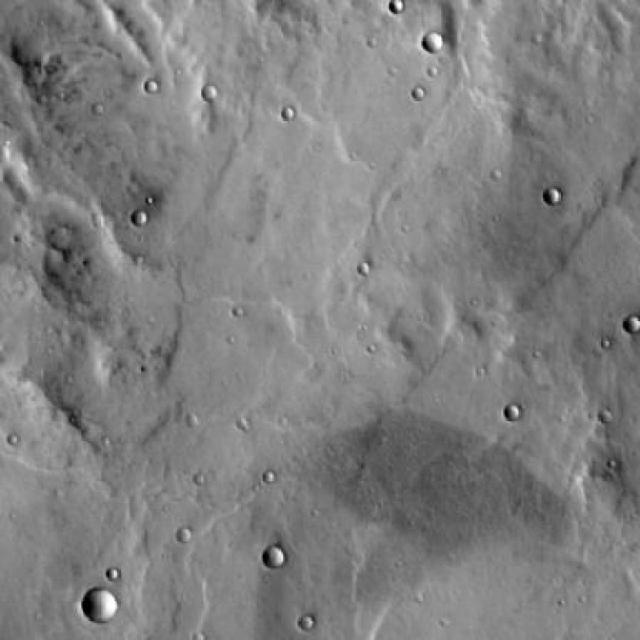crater: (81, 585, 116, 621), (264, 546, 285, 568), (424, 34, 444, 54), (543, 186, 560, 203), (505, 407, 520, 422)
